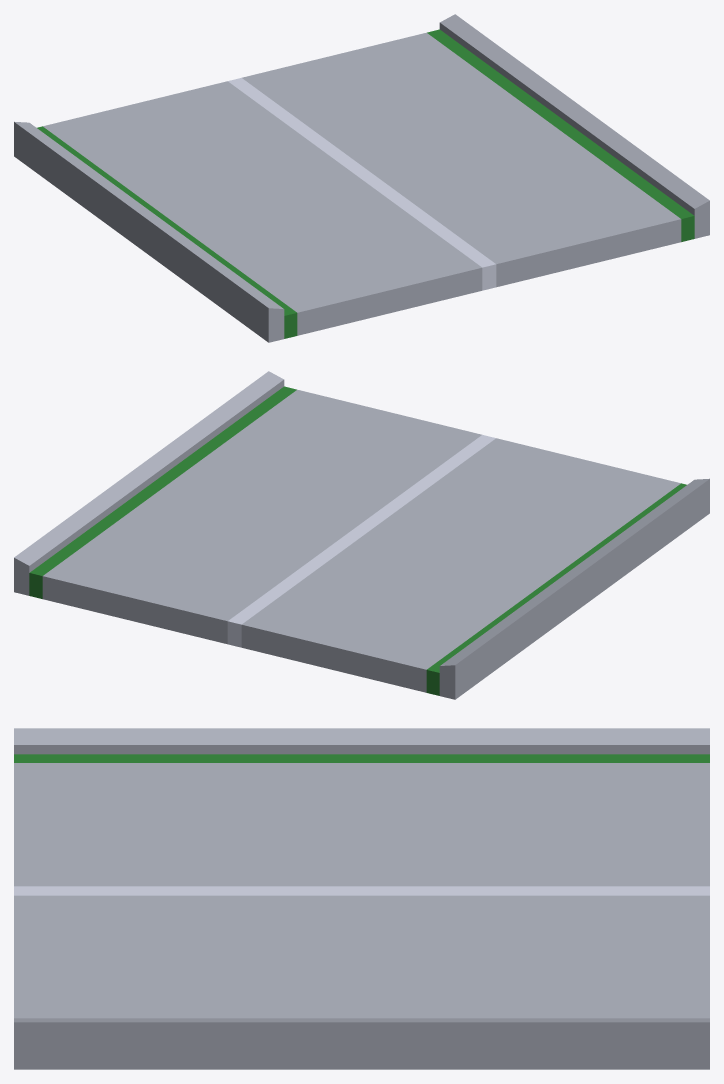
File: flat_road.glb
3 views of the same model, one above another, from view 1: azimuth 30°, elevation 25°; view 2: azimuth 150°, elevation 25°; view 3: azimuth 270°, elevation 25° (orthographic). The views are drawn at different scales.
Visible parts, largest first — view 1: flat_road; view 2: flat_road; view 3: flat_road.
Boxes of the visible parts, box(x1,y1,x2,y2) form: flat_road: box(14, 14, 709, 342); flat_road: box(14, 371, 709, 699); flat_road: box(14, 728, 709, 1069).
Size of the model in its own units: 20 by 1.5 by 20.
